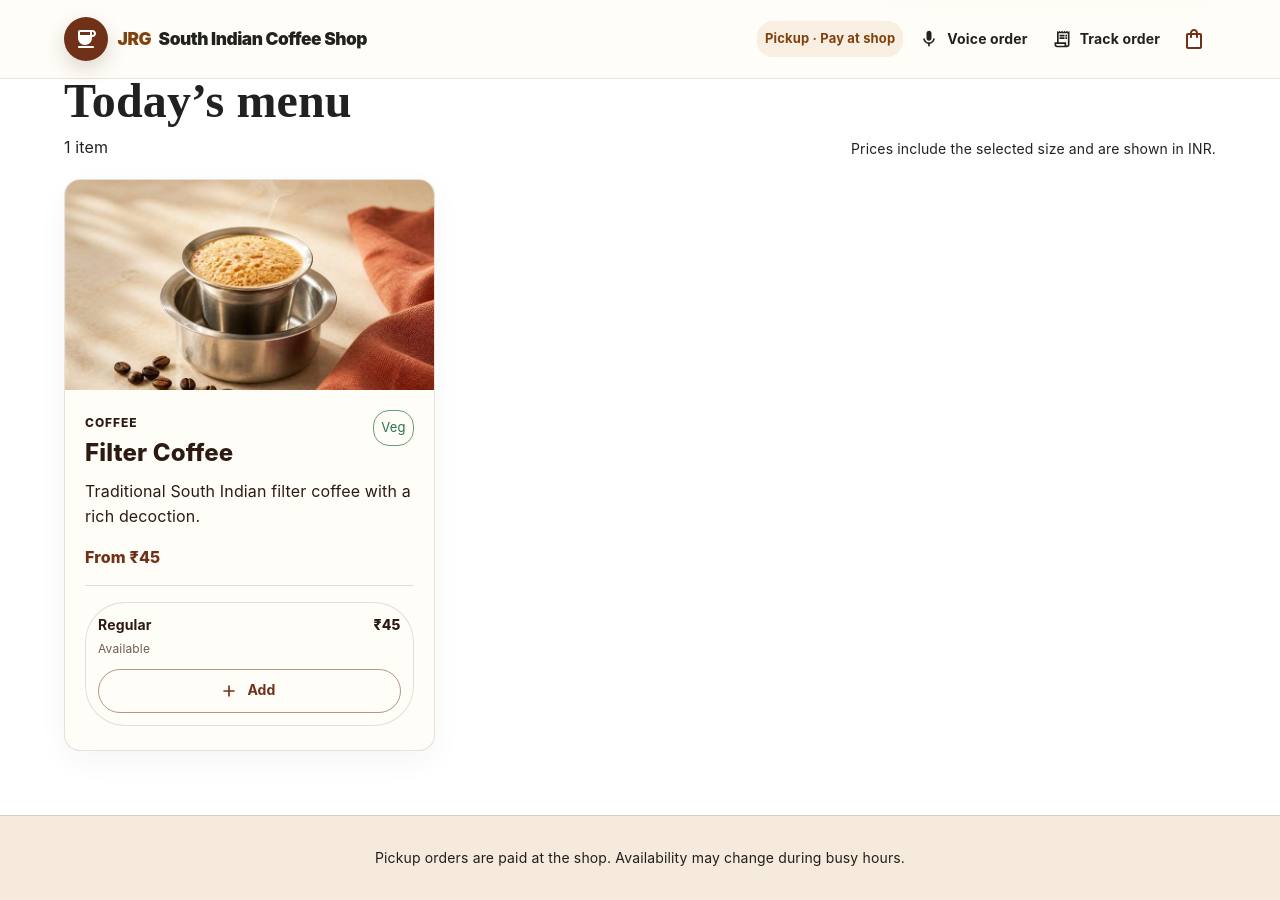
Scenario: customer menu › adds an available product variant to the cart
(page scrolled)
Click the button with aria-label "Add Filter Coffee Regular to cart" at (249, 691), box top-left (98, 669), bottom-right (401, 713)
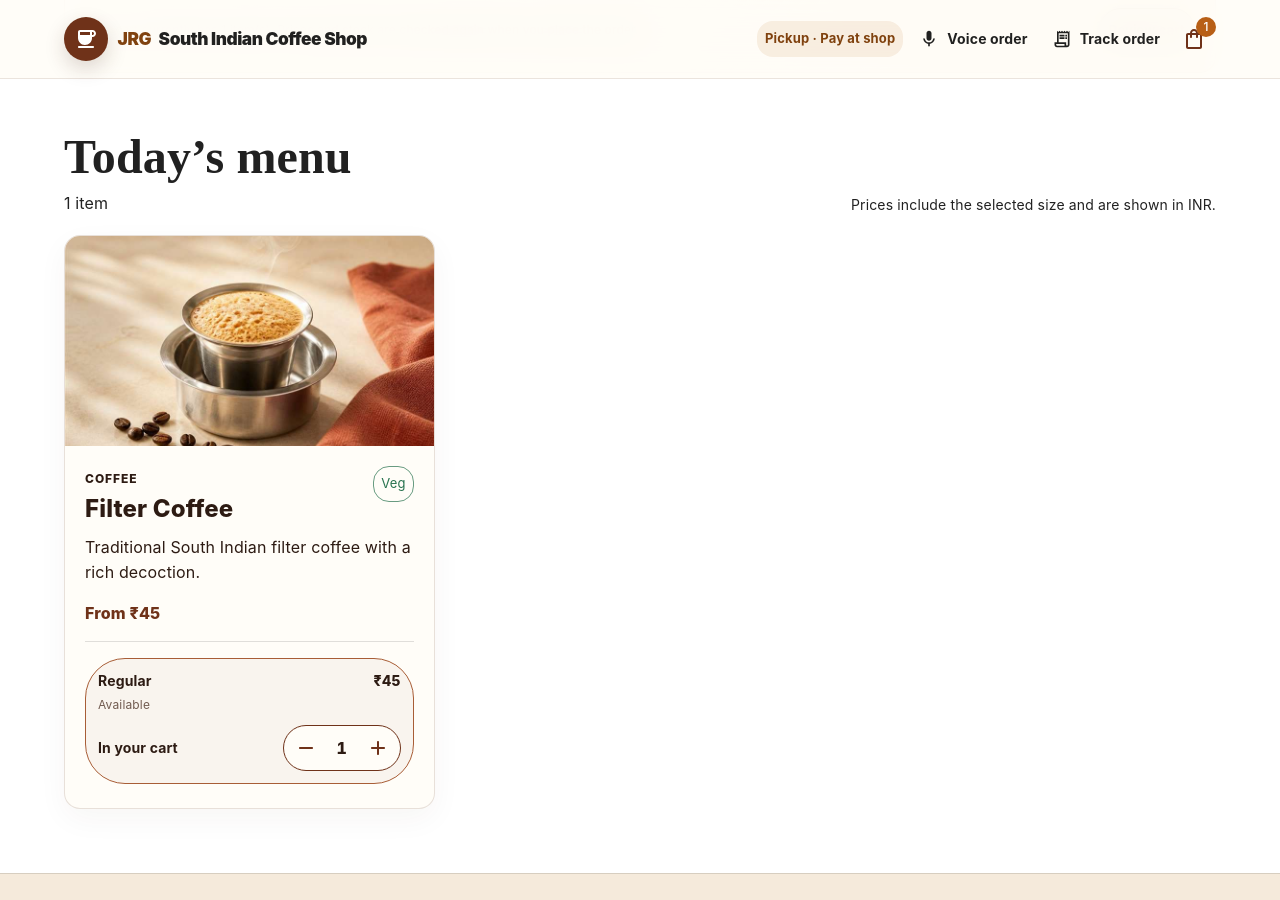
Check: the link named "Cart with 1 item" is shown, box top-left (1182, 17), bottom-right (1216, 51)
Check: the text named "Filter Coffee Regular quantity in cart" reads "1", box top-left (336, 738), bottom-right (347, 758)
